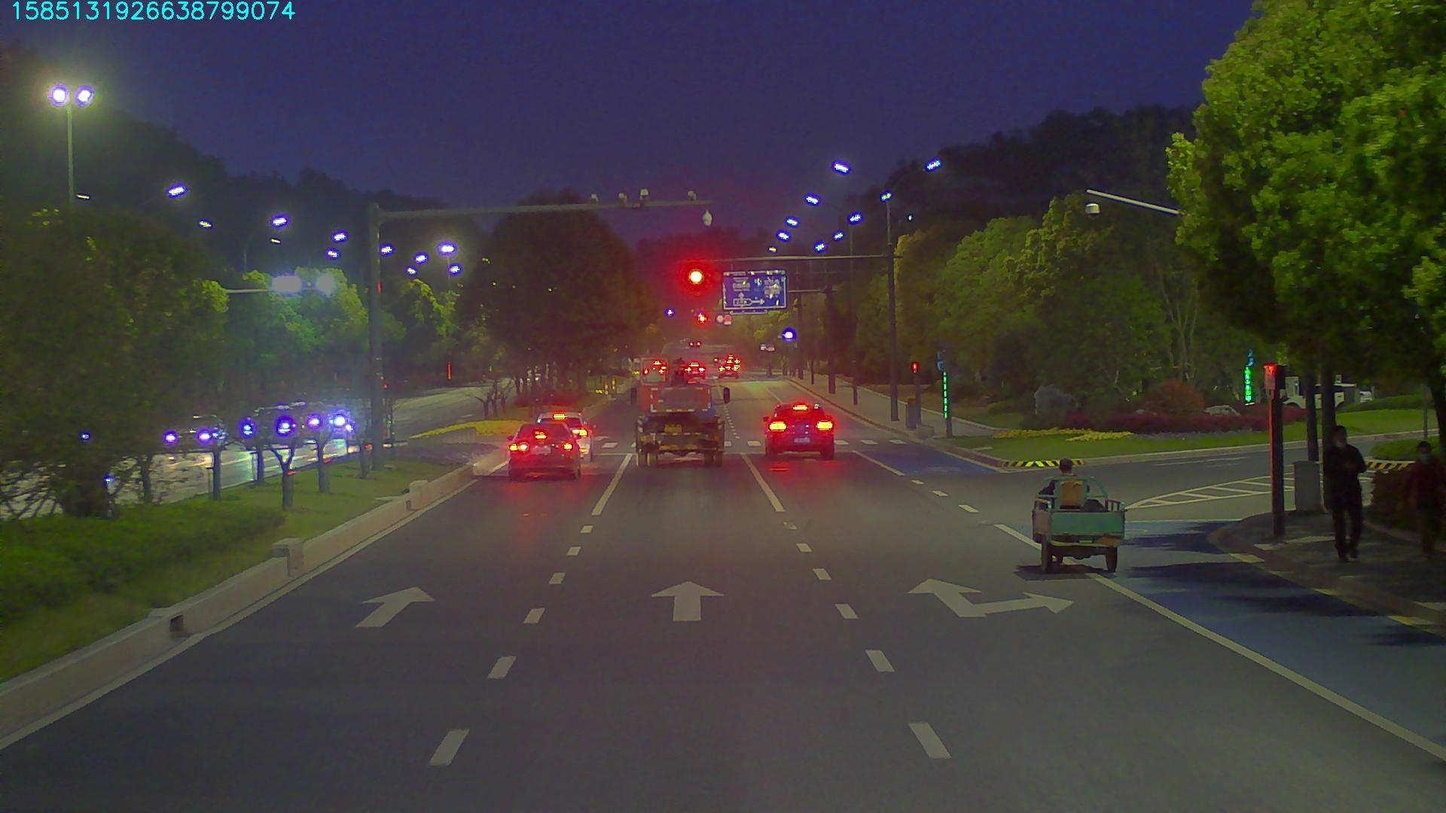red: (682, 263, 709, 284)
